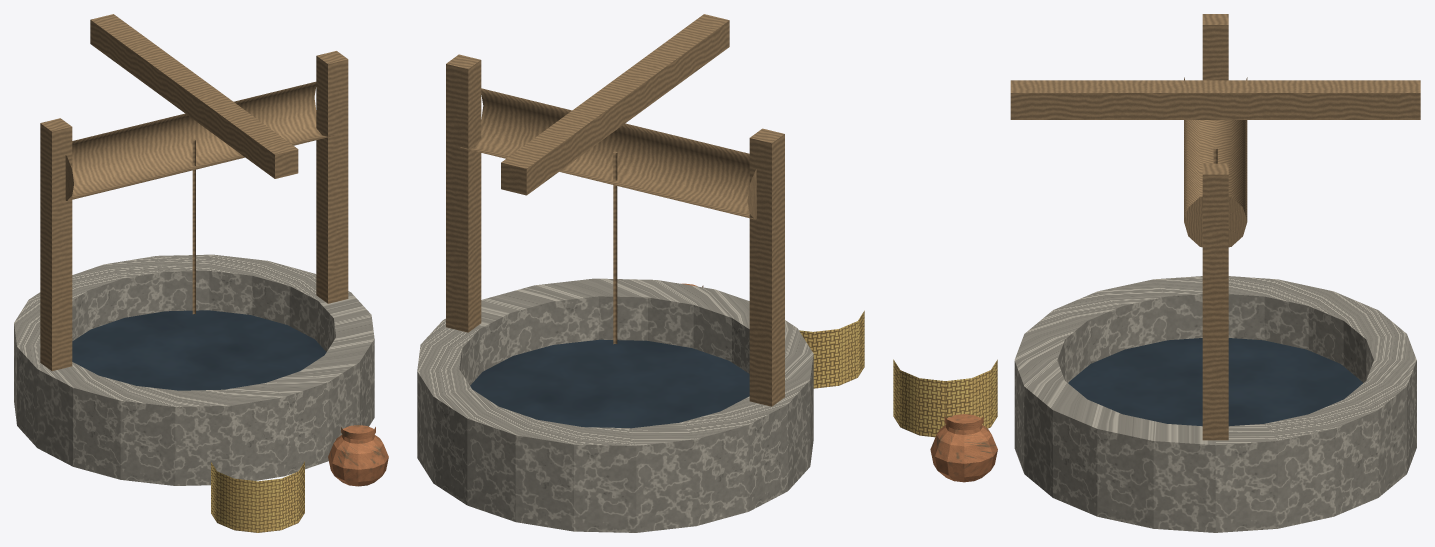
Rendered from well.glb.
3 renders of one model, left to right at view 1: azimuth 30°, elevation 25°; view 2: azimuth 150°, elevation 25°; view 3: azimuth 270°, elevation 25°, orthographic. The views are drawn at different scales.
Parts seen in each view (by area): view 1: Well; view 2: Well; view 3: Well.
Part boxes in pixels (bbox=[...]): Well: bbox=[14, 14, 388, 532]; Well: bbox=[417, 14, 864, 532]; Well: bbox=[893, 14, 1420, 532].
Size of the model in its own units: 2.16 by 2.14 by 2.83.
5 materials, 5 textured.
